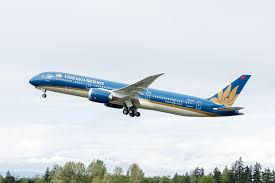maybay_dansu: (30, 58, 249, 124)
